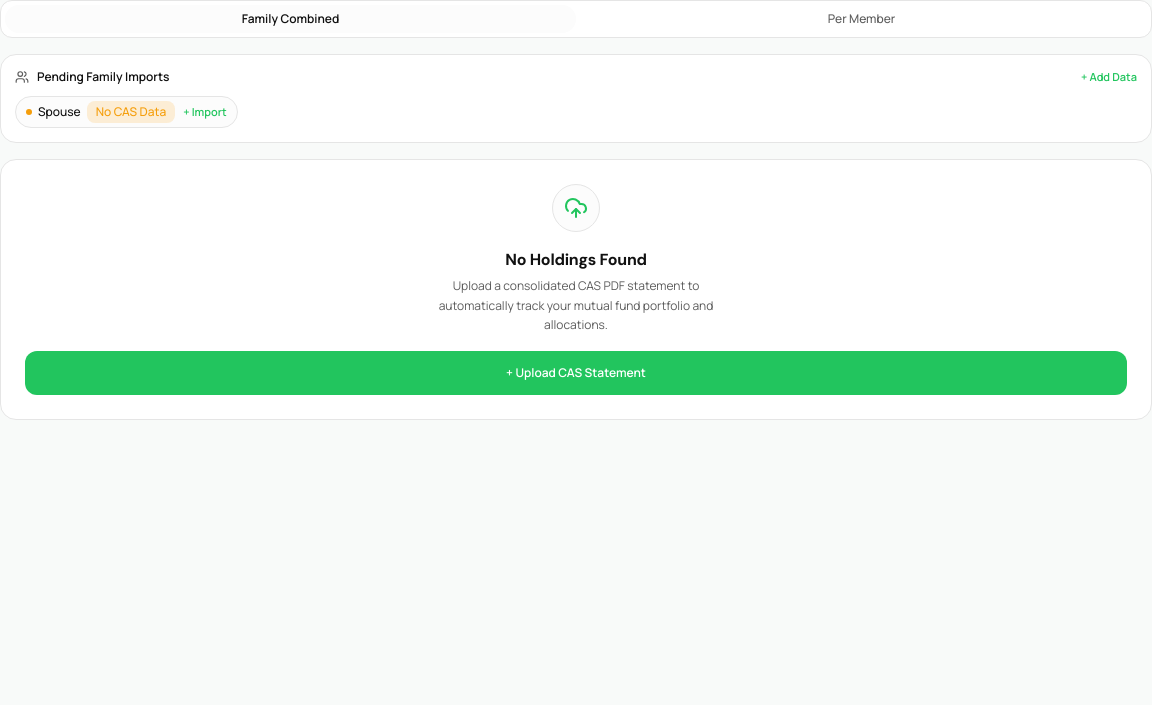
Test: MobileDashboardView › does not trap the user when switching to a member with 0 holdings in Per Member view
This screenshot has width=1152, height=705.
Click the button "Per Member" at (862, 19), box [576,5,1147,33]
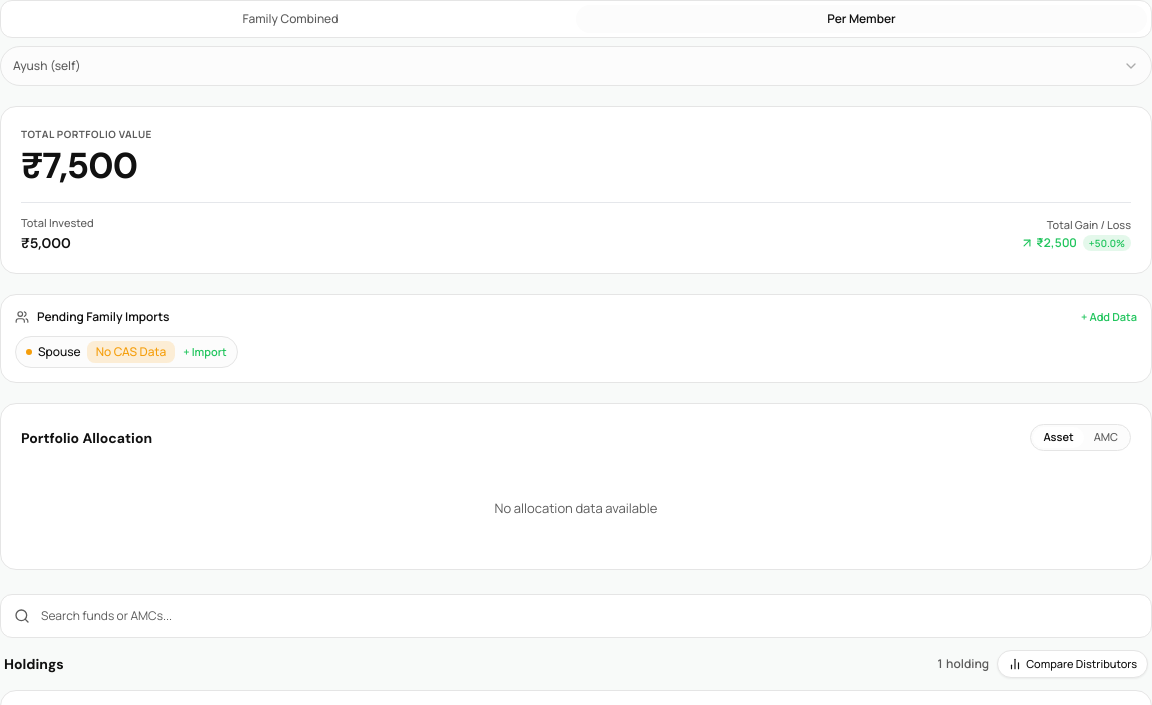
Now the dropdown named "Select household member" is shown
# Switch to Spouse (m-2) who has 0 holdings
Press ArrowDown in the dropdown named "Select household member", box [0,46,1151,86]
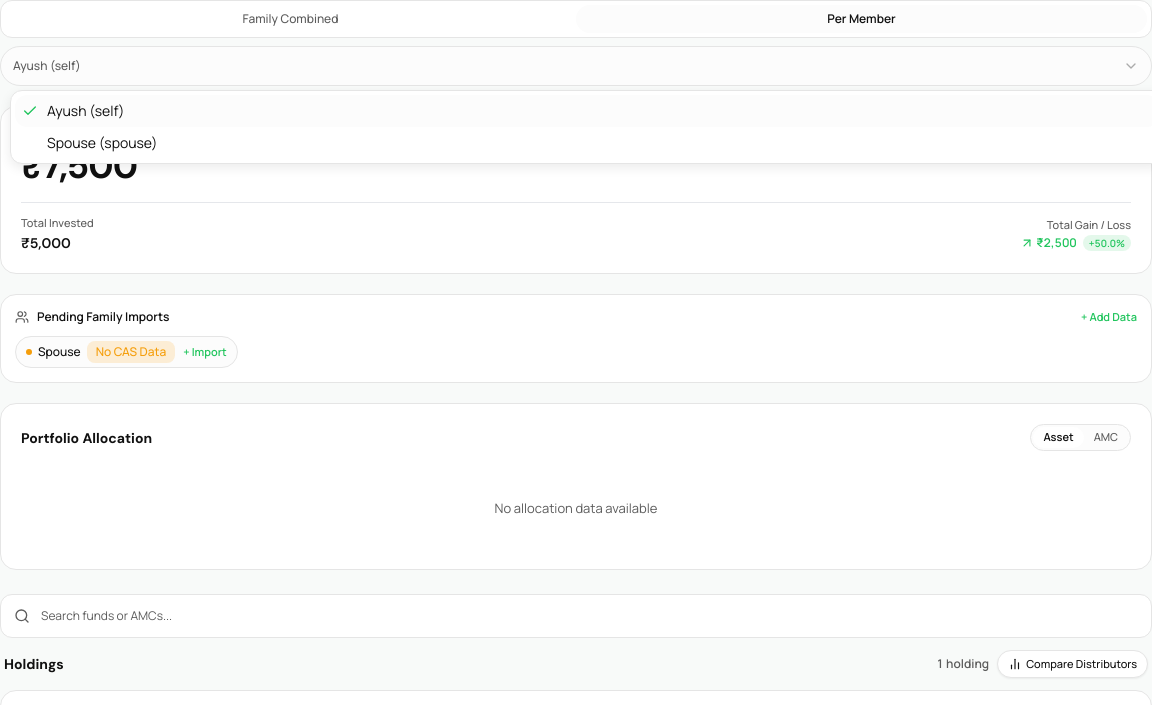
Click the option "Spouse (spouse)" at (102, 142), box [47,133,158,152]
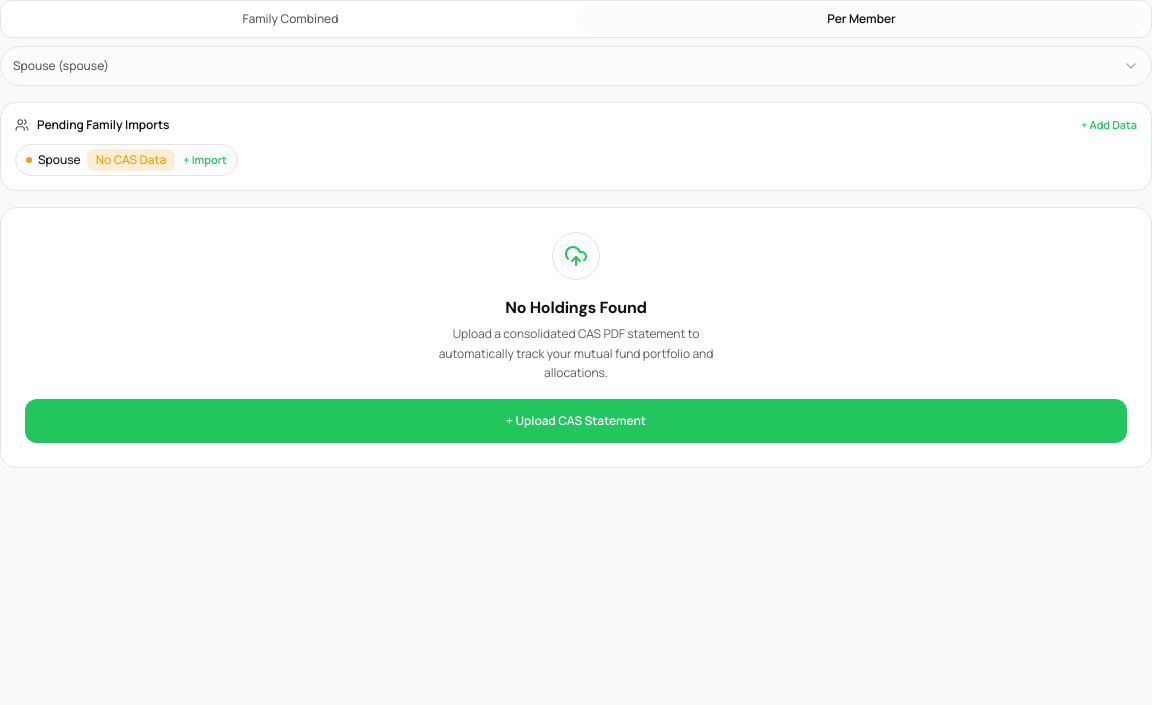
Now the dropdown named "Select household member" is shown
Now the heading "No Holdings Found" is shown, box [505,297,647,318]
# Switch back to Ayush (m-1)
Press ArrowDown in the dropdown named "Select household member", box [0,46,1151,86]
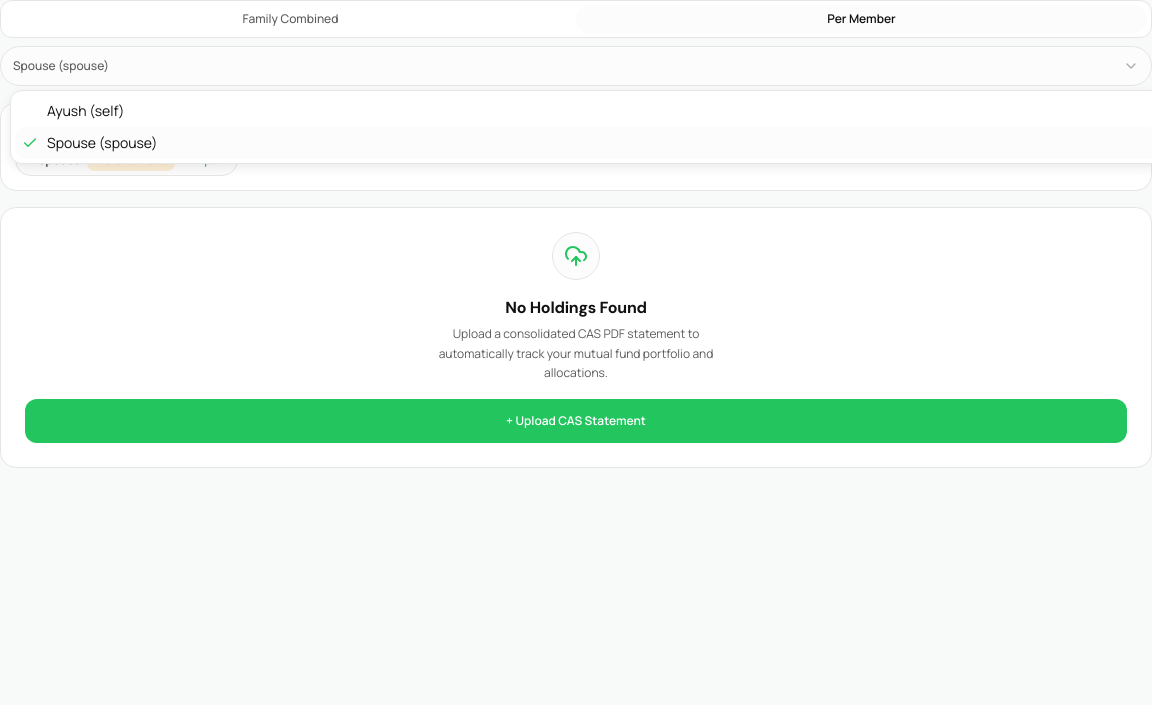
Click the option "Ayush (self)" at (86, 110), box [47,101,124,120]
(page scrolled)
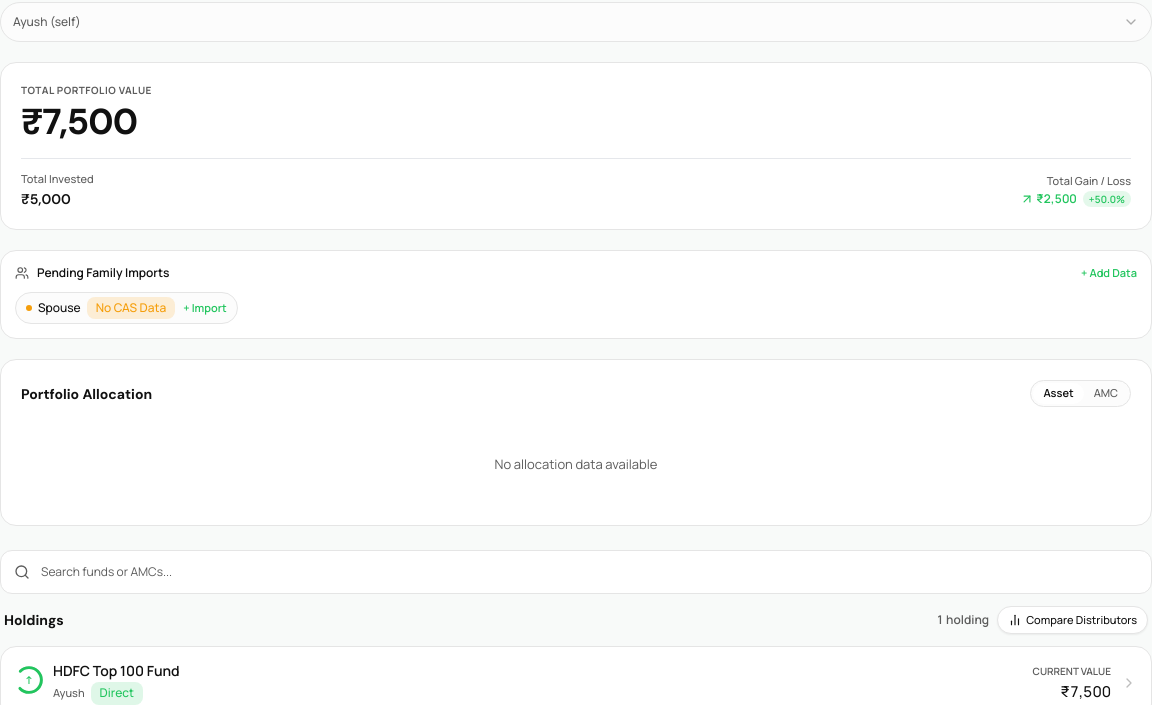
Now the text "HDFC Top 100 Fund" is shown, box [53,661,180,680]
